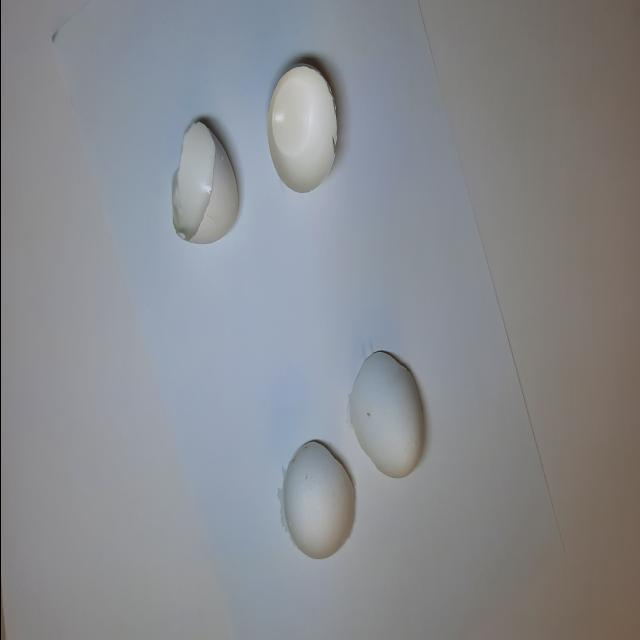egg shell: (165, 54, 342, 260), (278, 342, 428, 568), (259, 53, 343, 204), (343, 342, 428, 488), (162, 112, 244, 254), (279, 438, 359, 566)
